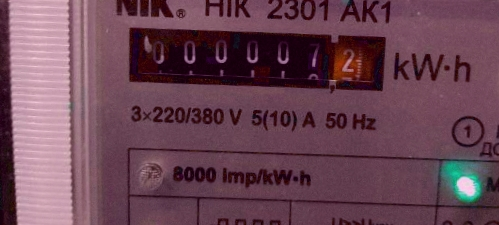0: (148, 36, 167, 64), (211, 35, 229, 64), (180, 36, 198, 64), (243, 36, 261, 64), (274, 37, 291, 66)
2: (339, 47, 357, 74)
7: (305, 38, 322, 69)
screen: (114, 13, 398, 103)
